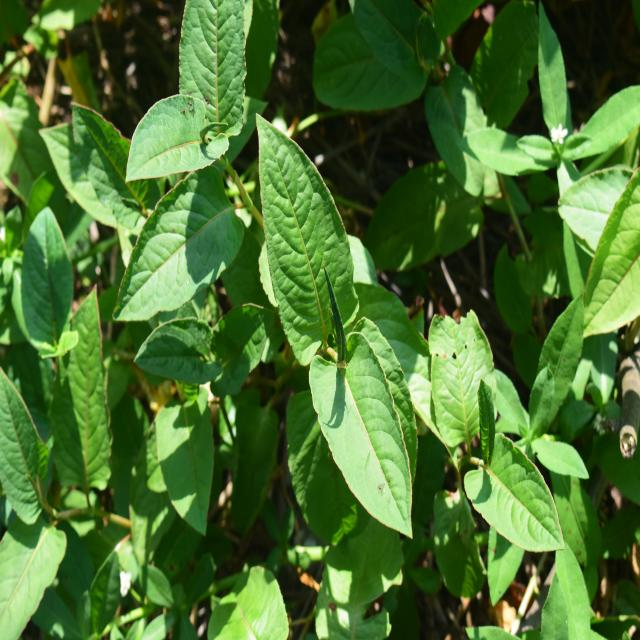Chinese_knotweed: (252, 134, 434, 546), (100, 6, 280, 327)
